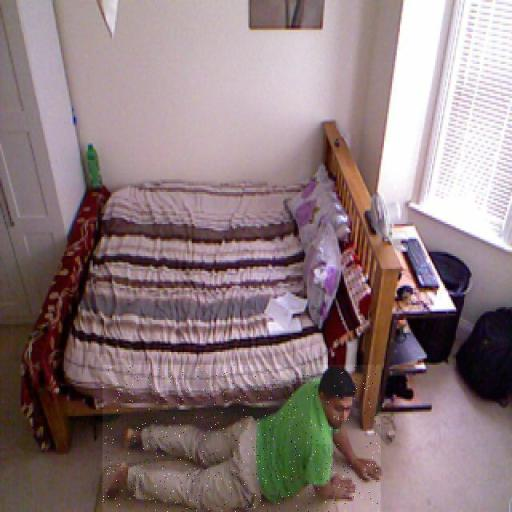Fall: (102, 365, 381, 512)
